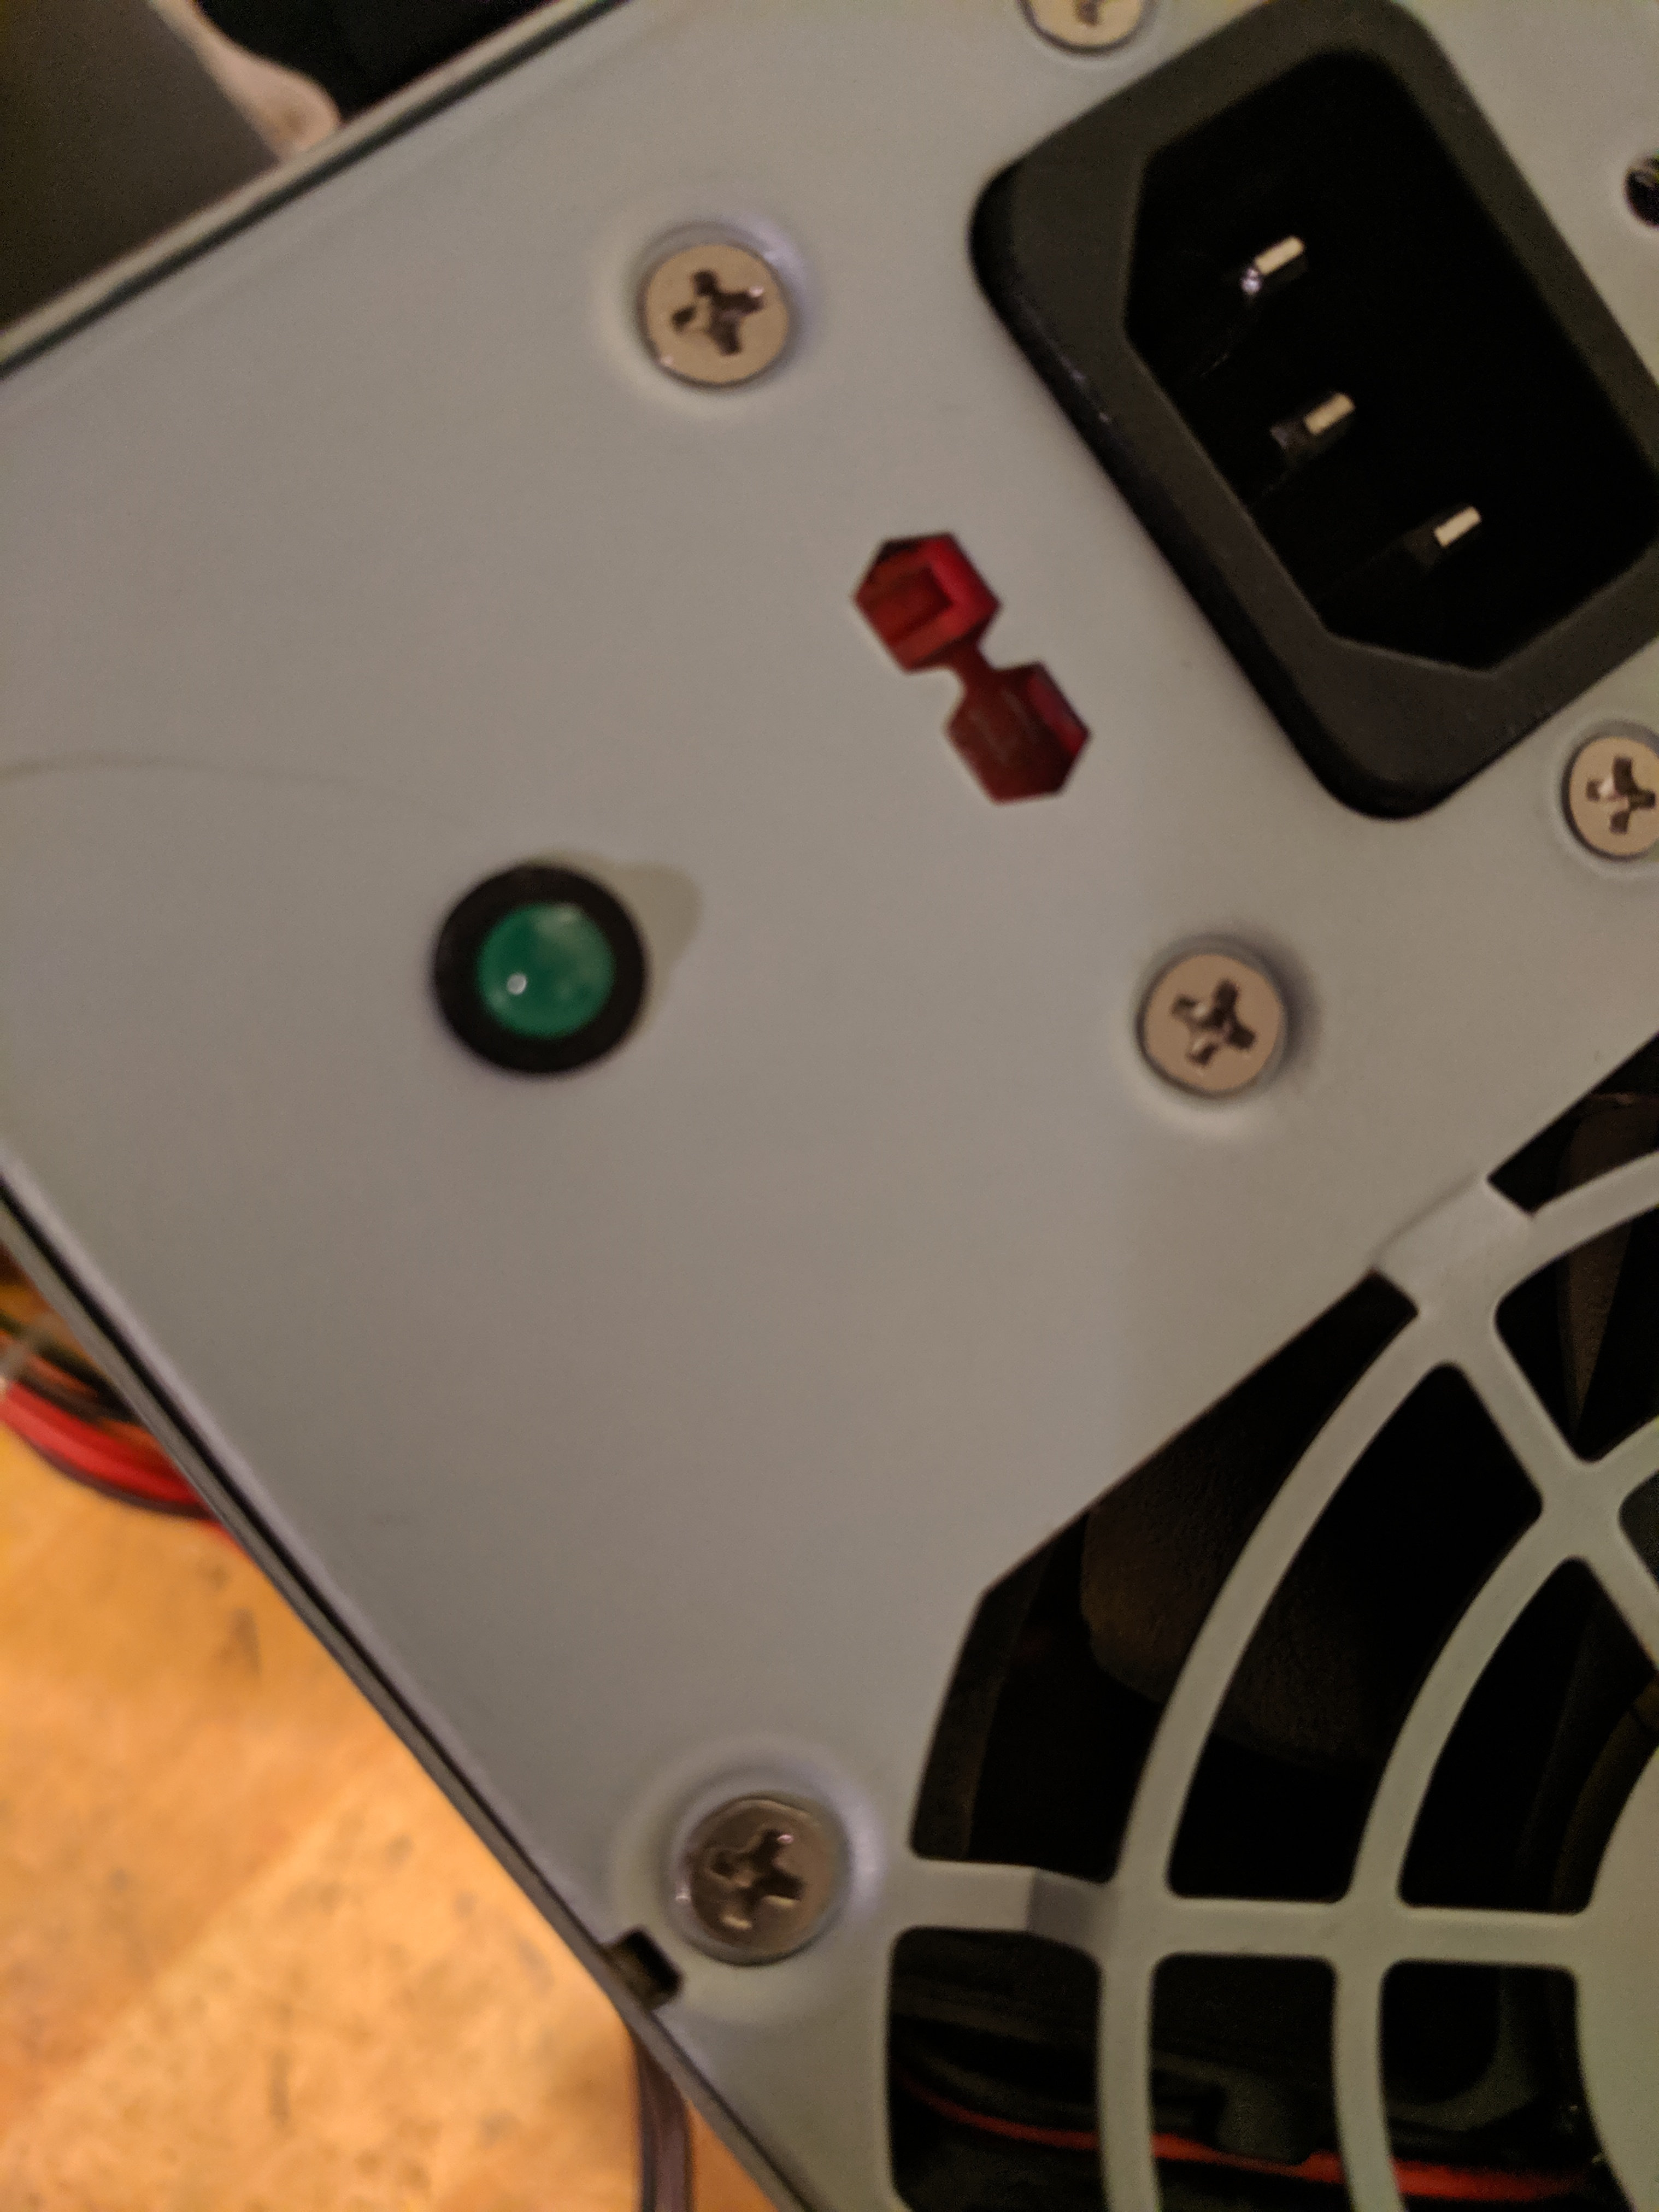cross_recessed_screw: (664, 1789, 850, 1958), (626, 235, 795, 385), (1131, 939, 1290, 1097), (1558, 719, 1656, 860)
